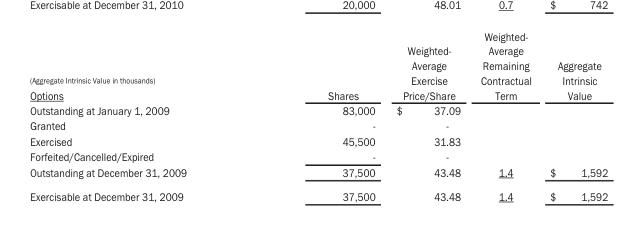table: (28, 28, 607, 203)
table column: (28, 28, 256, 203), (256, 28, 385, 203), (385, 28, 470, 203), (470, 28, 540, 203), (540, 28, 607, 203)
table column header: (28, 28, 607, 102)
table row: (28, 28, 607, 102), (28, 164, 607, 184), (28, 184, 607, 203), (28, 117, 607, 133), (28, 133, 607, 149), (28, 102, 607, 117), (28, 149, 607, 164)
